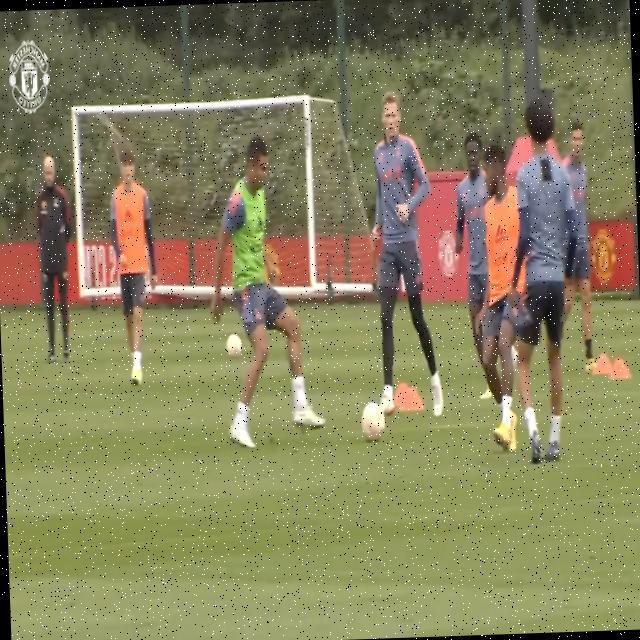Adidas: (493, 222, 510, 244), (252, 213, 265, 236)
